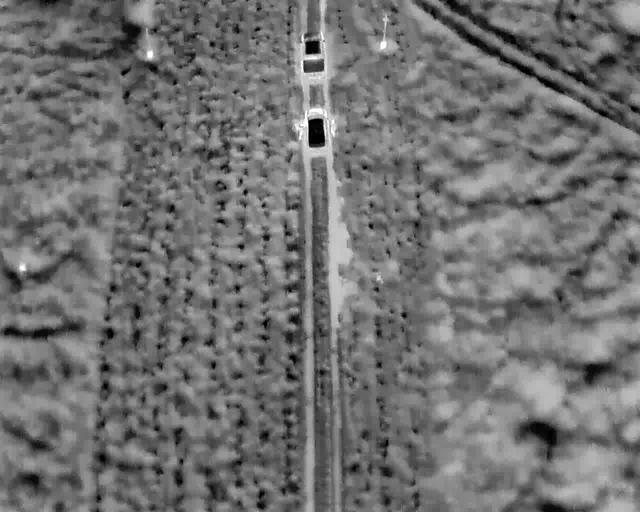car: (301, 31, 326, 75), (305, 106, 329, 149)
person: (294, 119, 305, 141), (327, 117, 338, 138)
